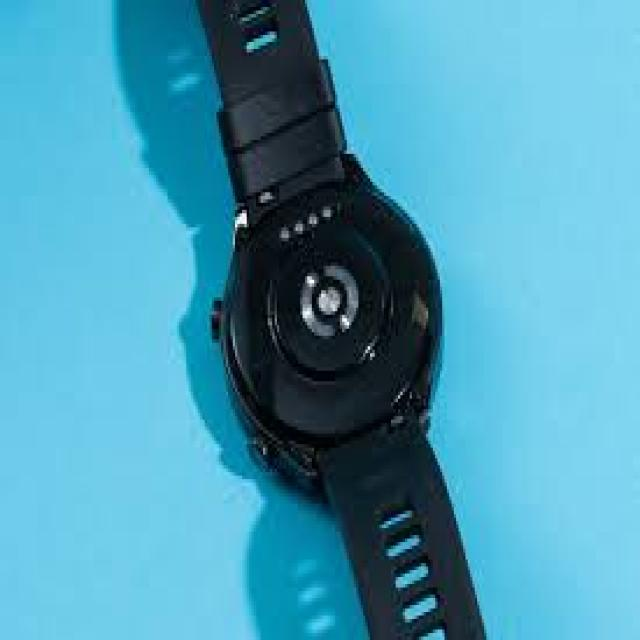watch: (192, 128, 478, 494)
